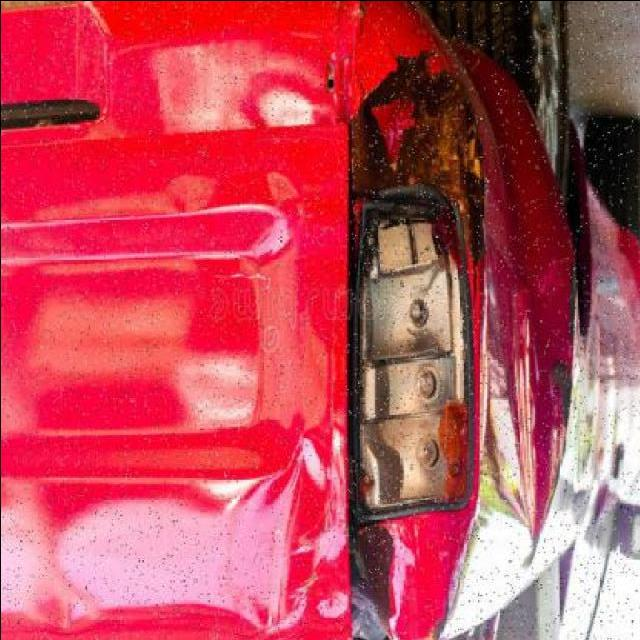Taillight-Damage: (343, 31, 488, 624)
